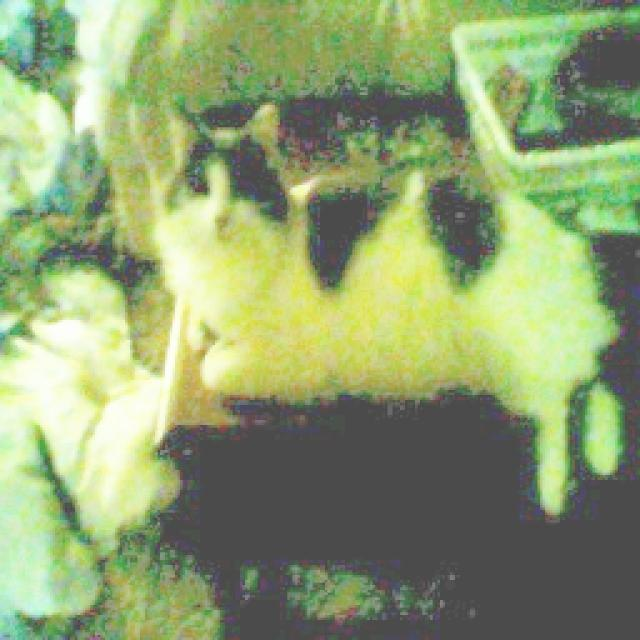cat: (120, 94, 640, 488)
